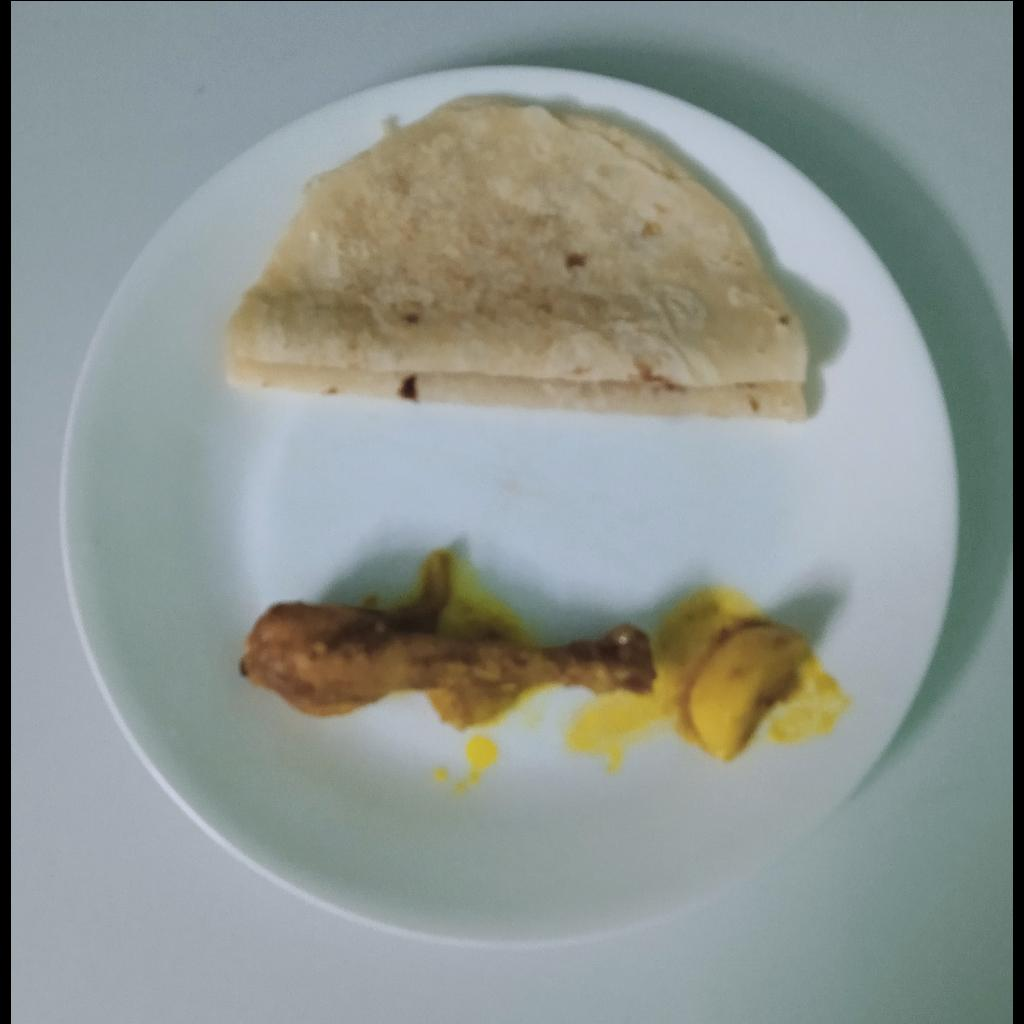chicken: (221, 550, 657, 722)
potato: (685, 617, 805, 774)
ruti: (226, 101, 812, 408)
